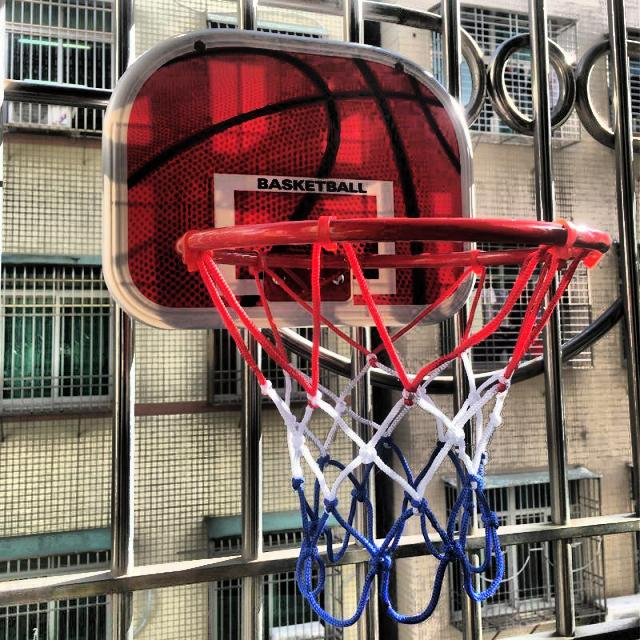rim: (176, 219, 613, 613)
